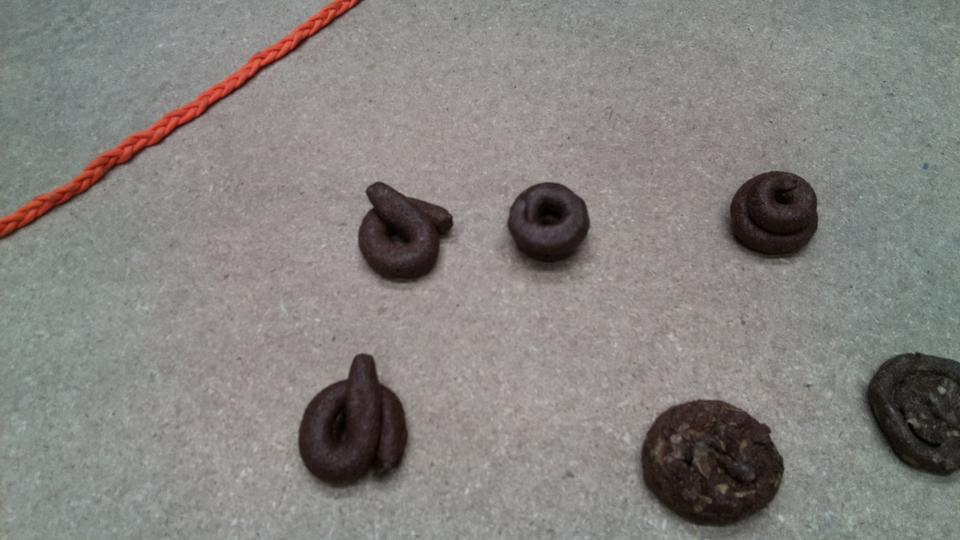poop: (639, 396, 788, 529), (293, 351, 411, 494), (864, 349, 960, 479), (351, 178, 457, 285), (725, 166, 825, 261), (506, 178, 593, 267)
rope: (1, 1, 353, 228)
